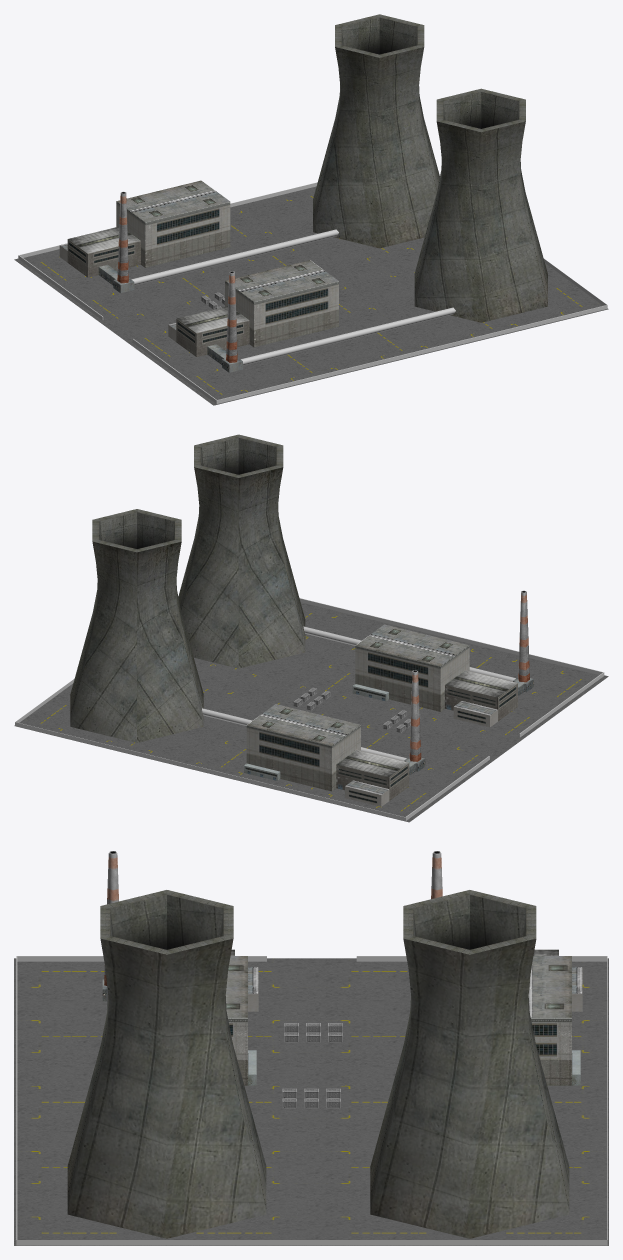
3 renders of one model, top to bottom at view 1: azimuth 30°, elevation 25°; view 2: azimuth 150°, elevation 25°; view 3: azimuth 270°, elevation 25°, orthographic. The views are drawn at different scales.
Parts seen in each view (by area): view 1: Plane098, Cylinder227, base_20, Box270, Box271, Box272, Cylinder228, Cylinder226; view 2: Plane098, base_20, Cylinder227, Box270, Box271, Box272, Cylinder228, Cylinder226; view 3: Plane098, Cylinder227, base_20, Box270, Box272, Box271.
Boxes of the visible parts, x1,y1,x2,y2 form: Plane098: (14,186,608,405); Cylinder227: (414,88,547,322); base_20: (313,14,439,248); Box270: (59,180,230,293); Box271: (168,260,338,372); Box272: (18,182,607,403); Cylinder228: (241,307,455,365); Cylinder226: (131,229,338,285); Plane098: (14,602,608,822); base_20: (70,509,203,742); Cylinder227: (178,434,305,668); Box270: (244,670,425,806); Box271: (352,590,533,727); Box272: (15,598,604,820); Cylinder228: (303,626,515,681); Cylinder226: (202,708,406,760); Plane098: (14,958,608,1245); Cylinder227: (67,890,266,1238); base_20: (370,890,569,1238); Box270: (431,851,582,1085); Box272: (16,956,607,1245); Box271: (102,851,258,1085).
Size of the model in its own units: 439 by 193 by 384.
